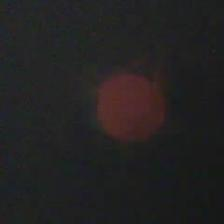fertile: (91, 66, 170, 147)
